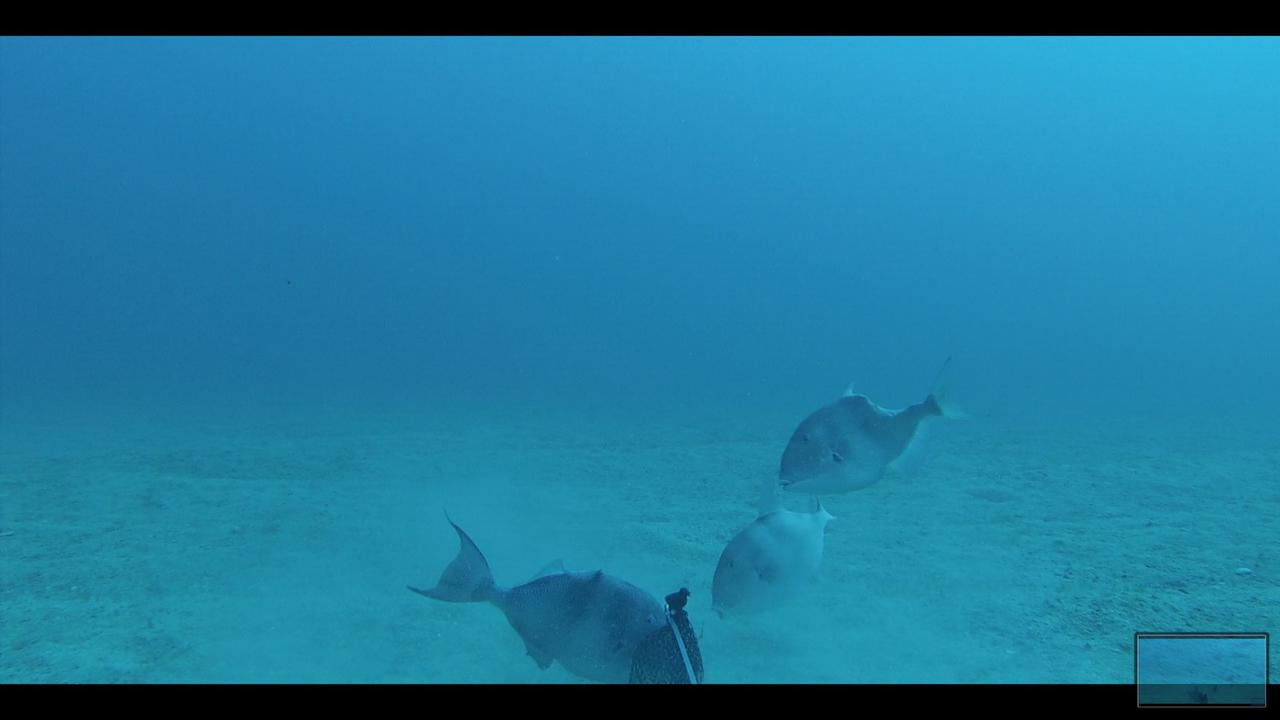balistes: (400, 502, 673, 682), (768, 349, 987, 498), (703, 485, 843, 626)
